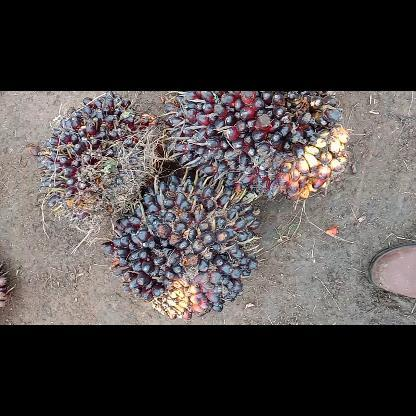TBS mentah: (103, 168, 264, 322), (160, 91, 352, 205), (37, 91, 165, 227)
